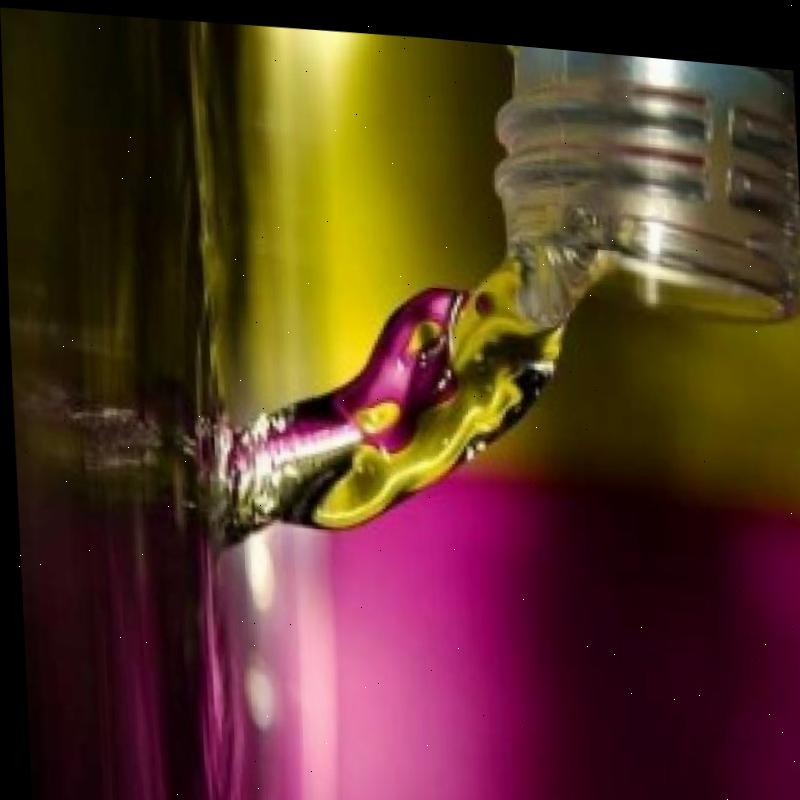botella: (487, 34, 800, 316)
